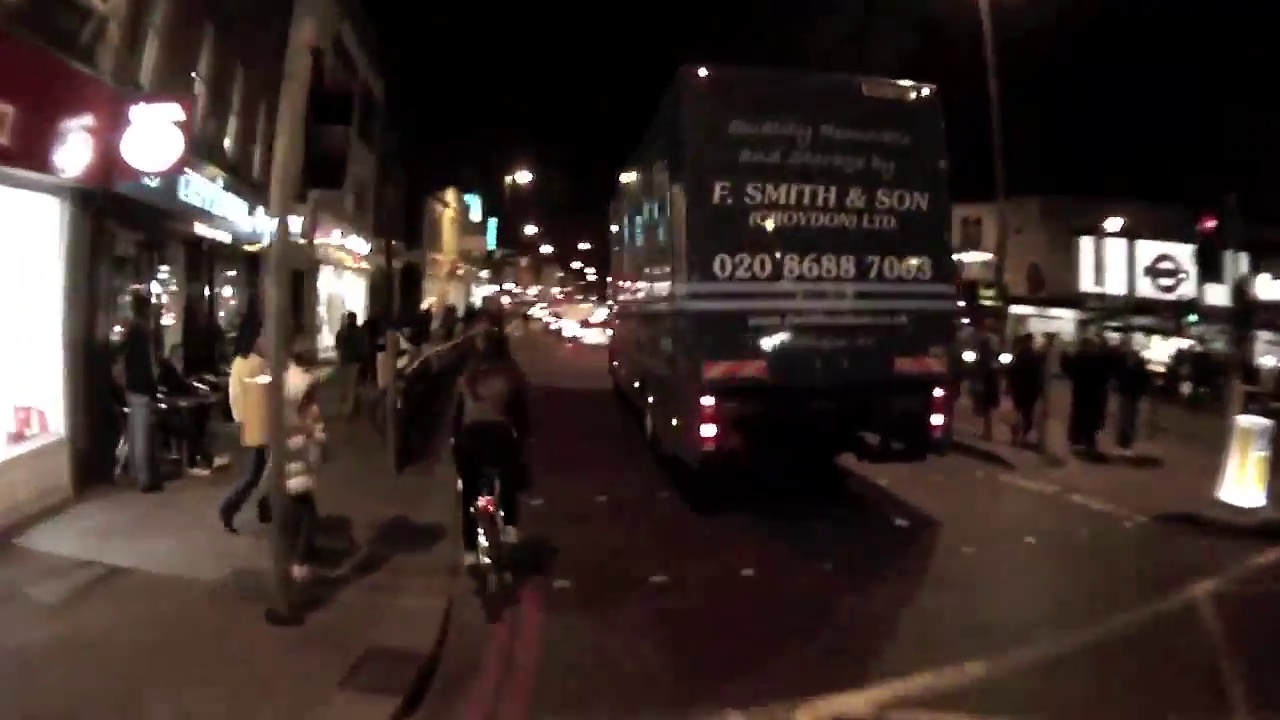cyclist_back: (437, 315, 552, 625)
